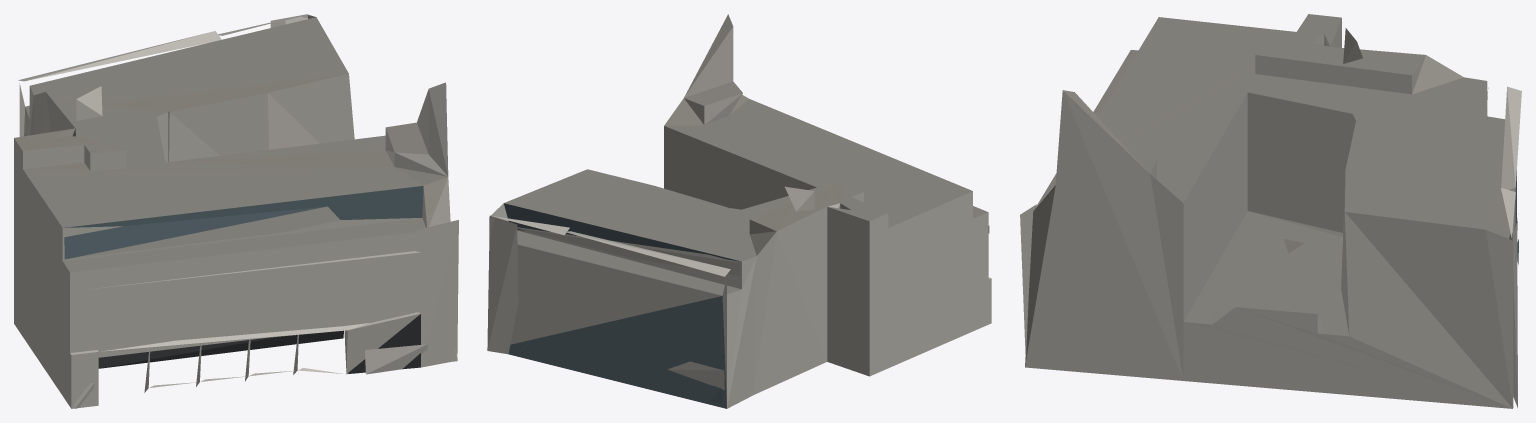
The model's file is spaarbank-singel-548.lod2.glb.
The picture shows the model from 3 angles, left to right: view 1: azimuth 30°, elevation 25°; view 2: azimuth 150°, elevation 25°; view 3: azimuth 270°, elevation 25°; orthographic projection. The views are drawn at different scales.
Parts seen in each view (by area): view 1: lod2; view 2: lod2; view 3: lod2.
Part boxes in pixels (x1,y1,x2,y2): lod2: (14,14,458,408); lod2: (487,14,991,408); lod2: (1020,14,1521,408).
Size of the model in its own units: 53.49 by 32.26 by 52.29.
